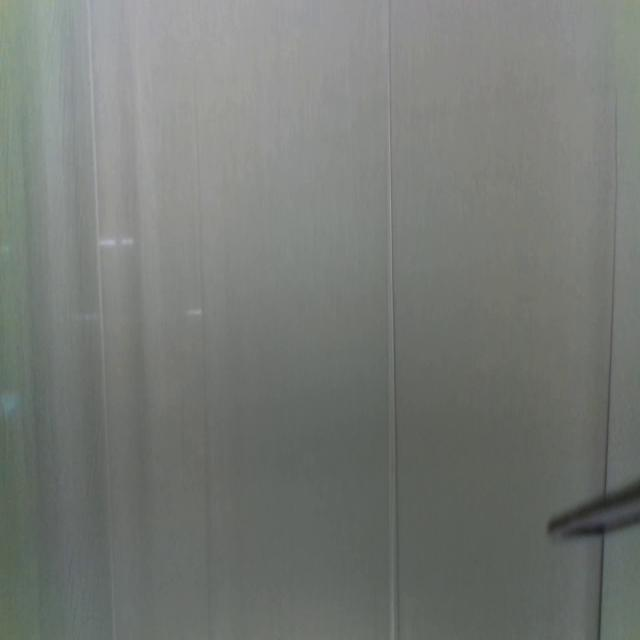crease: (88, 0, 116, 640), (193, 73, 212, 640), (386, 3, 402, 636), (602, 92, 620, 488), (596, 536, 607, 640)
